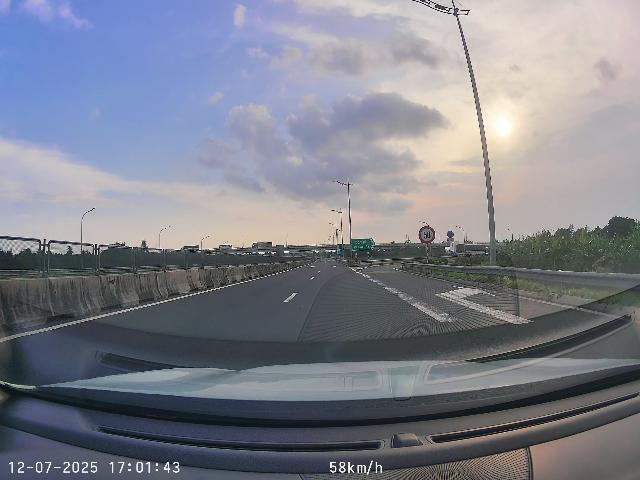127-toc-do-toi-da-50: (418, 226, 436, 244)
